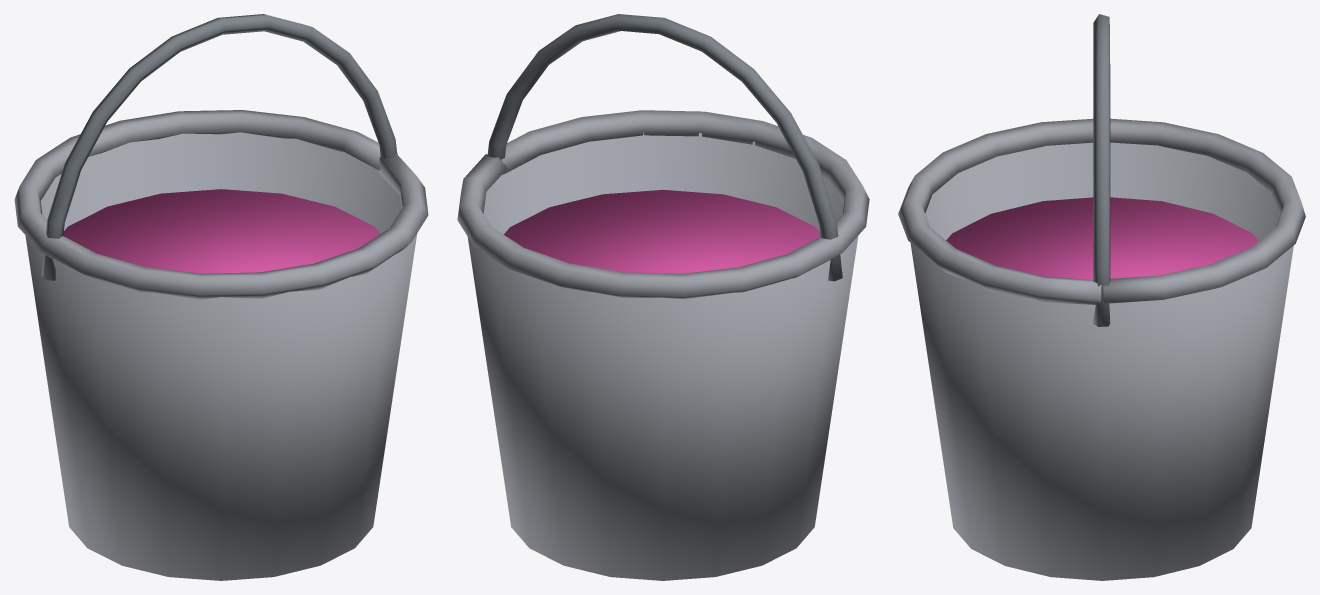
Rendered from pink_paint.glb.
3 renders of one model, left to right at view 1: azimuth 30°, elevation 25°; view 2: azimuth 150°, elevation 25°; view 3: azimuth 270°, elevation 25°, orthographic.
Visible parts, largest first — view 1: pink_paint_v0; view 2: pink_paint_v0; view 3: pink_paint_v0.
Part boxes in pixels (x1,y1,x2,y2): pink_paint_v0: (14, 14, 428, 580); pink_paint_v0: (457, 14, 869, 580); pink_paint_v0: (898, 14, 1305, 580).
Bounding box in the file's own units: 0.2696 × 0.3556 × 0.2693.
